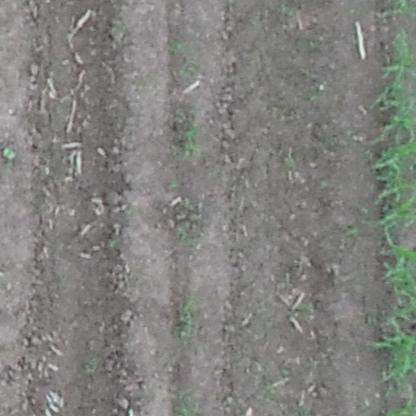corn: (378, 31, 416, 387), (177, 118, 208, 161), (174, 293, 200, 340)
vc: (3, 147, 20, 157)
